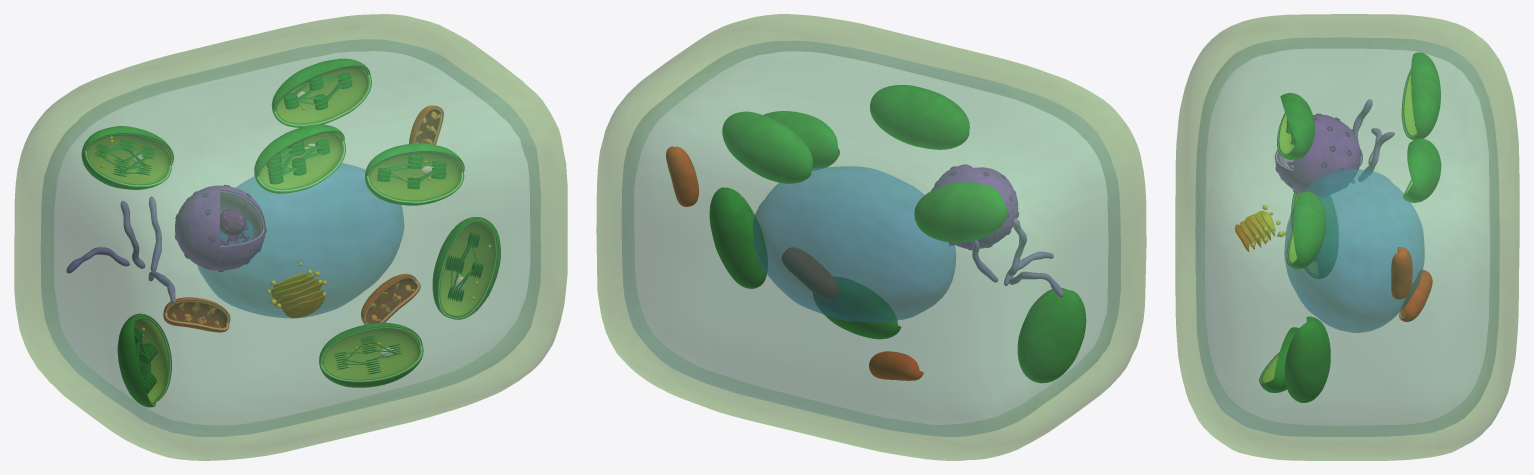
Rendered from plant-cell.glb.
3 renders of one model, left to right at view 1: azimuth 30°, elevation 25°; view 2: azimuth 150°, elevation 25°; view 3: azimuth 270°, elevation 25°, orthographic. The views are drawn at different scales.
Visible parts, largest first — view 1: CellWall_Mesh, Membrane_Mesh, Vacuole_Mesh, Chloro_3_Mesh (×2), Chloro_4_Mesh (×2), Chloro_7_Mesh (×2), Chloro_1_Mesh (×2), Nucleus_Mesh, Chloro_6_Mesh (×2), Chloro_2_Mesh (×2), Chloro_5_Mesh (×2), PlantCell (+5 smaller); view 2: CellWall_Mesh, Vacuole_Mesh, Membrane_Mesh, Chloro_5_Mesh, Chloro_2_Mesh, Chloro_7_Mesh, Chloro_6_Mesh, Chloro_4_Mesh, Chloro_3_Mesh, Nucleus_Mesh, Chloro_1_Mesh, PlantCell_Mesh (+3 smaller); view 3: CellWall_Mesh, Vacuole_Mesh, Membrane_Mesh, Nucleus_Mesh, Chloro_4_Mesh, Chloro_6_Mesh, Chloro_1_Mesh, Chloro_2_Mesh, Chloro_7_Mesh, Chloro_5_Mesh, PlantCell, Chloro_3_Mesh (+3 smaller).
Boxes of the visible parts, box(x1,y1,x2,y2) form: CellWall_Mesh: box(14, 14, 567, 460); Membrane_Mesh: box(41, 39, 540, 436); Vacuole_Mesh: box(198, 163, 403, 318); Chloro_3_Mesh (×2): box(319, 322, 423, 387); Chloro_4_Mesh (×2): box(432, 217, 500, 319); Chloro_7_Mesh (×2): box(271, 58, 371, 127); Chloro_1_Mesh (×2): box(365, 143, 464, 205); Nucleus_Mesh: box(175, 185, 265, 270); Chloro_6_Mesh (×2): box(81, 126, 173, 189); Chloro_2_Mesh (×2): box(254, 124, 345, 193); Chloro_5_Mesh (×2): box(117, 313, 171, 407); PlantCell: box(266, 262, 326, 318); CellWall_Mesh: box(596, 14, 1146, 460); Vacuole_Mesh: box(753, 166, 955, 321); Membrane_Mesh: box(622, 41, 1120, 436); Chloro_5_Mesh: box(1017, 288, 1086, 383); Chloro_2_Mesh: box(870, 85, 969, 149); Chloro_7_Mesh: box(722, 111, 812, 183); Chloro_6_Mesh: box(914, 182, 1008, 242); Chloro_4_Mesh: box(709, 187, 767, 288); Chloro_3_Mesh: box(813, 277, 900, 339); Nucleus_Mesh: box(933, 164, 1018, 249); Chloro_1_Mesh: box(764, 111, 839, 170); PlantCell_Mesh: box(971, 218, 1063, 297); CellWall_Mesh: box(1175, 14, 1519, 460); Vacuole_Mesh: box(1284, 169, 1424, 332); Membrane_Mesh: box(1195, 37, 1499, 436); Nucleus_Mesh: box(1274, 114, 1360, 196); Chloro_4_Mesh: box(1285, 316, 1330, 402); Chloro_6_Mesh: box(1401, 52, 1440, 140); Chloro_1_Mesh: box(1286, 191, 1326, 268); Chloro_2_Mesh: box(1277, 93, 1314, 160); Chloro_7_Mesh: box(1403, 138, 1441, 202); Chloro_5_Mesh: box(1291, 192, 1338, 278); PlantCell: box(1235, 204, 1285, 251); Chloro_3_Mesh: box(1259, 327, 1299, 392).
Size of the model in its own units: 6.84 by 4.65 by 4.64.
